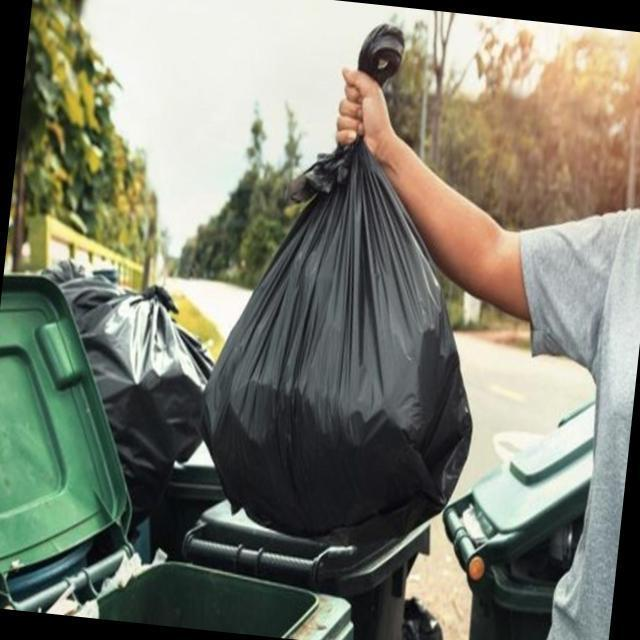Garbage_Bag: (191, 16, 516, 562)
